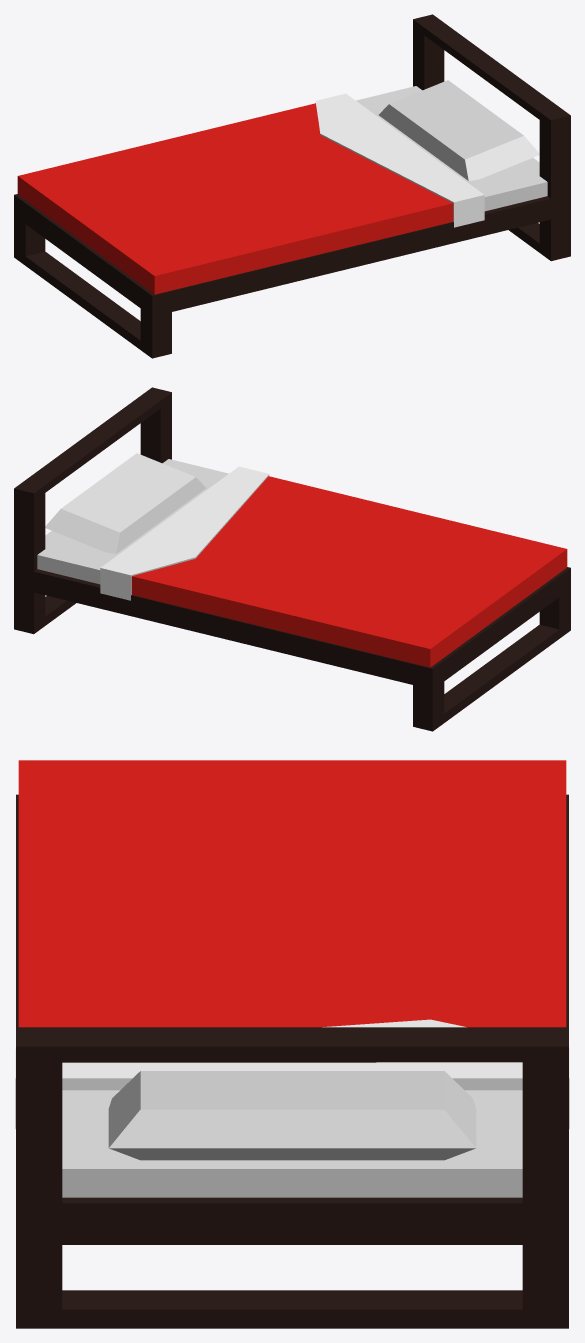
The model's file is Bed.fbx.
3 views of the same model, one above another, from view 1: azimuth 30°, elevation 25°; view 2: azimuth 150°, elevation 25°; view 3: azimuth 270°, elevation 25° (orthographic). The views are drawn at different scales.
Parts seen in each view (by area): view 1: Cube.002, Cube, Plane, Cube.001; view 2: Cube.002, Cube, Plane, Cube.001; view 3: Cube.002, Cube, Plane, Cube.001.
Part boxes in pixels (<box>): Cube.002: <box>17,93,484,294</box>; Cube: <box>14,14,570,358</box>; Plane: <box>379,80,539,180</box>; Cube.001: <box>356,86,547,211</box>; Cube.002: <box>100,466,567,667</box>; Cube: <box>14,387,570,731</box>; Plane: <box>45,453,205,553</box>; Cube.001: <box>37,459,228,584</box>; Cube.002: <box>15,760,569,1128</box>; Cube: <box>16,794,568,1328</box>; Plane: <box>108,1071,476,1160</box>; Cube.001: <box>62,1090,522,1197</box>.
Bounding box in the file's own units: 1400 × 450 × 802.
